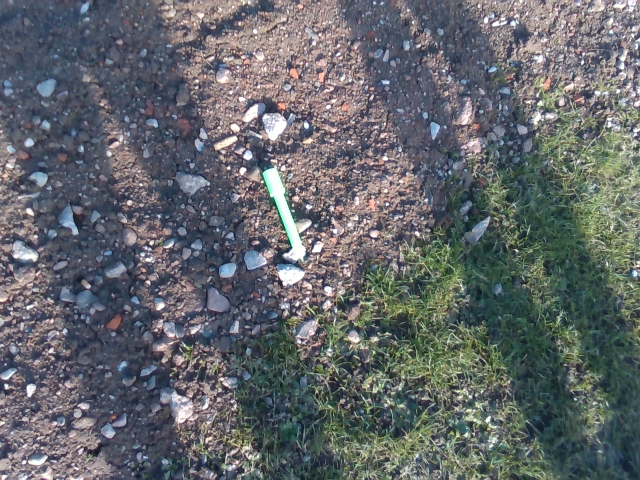Probe: (258, 163, 311, 266)
